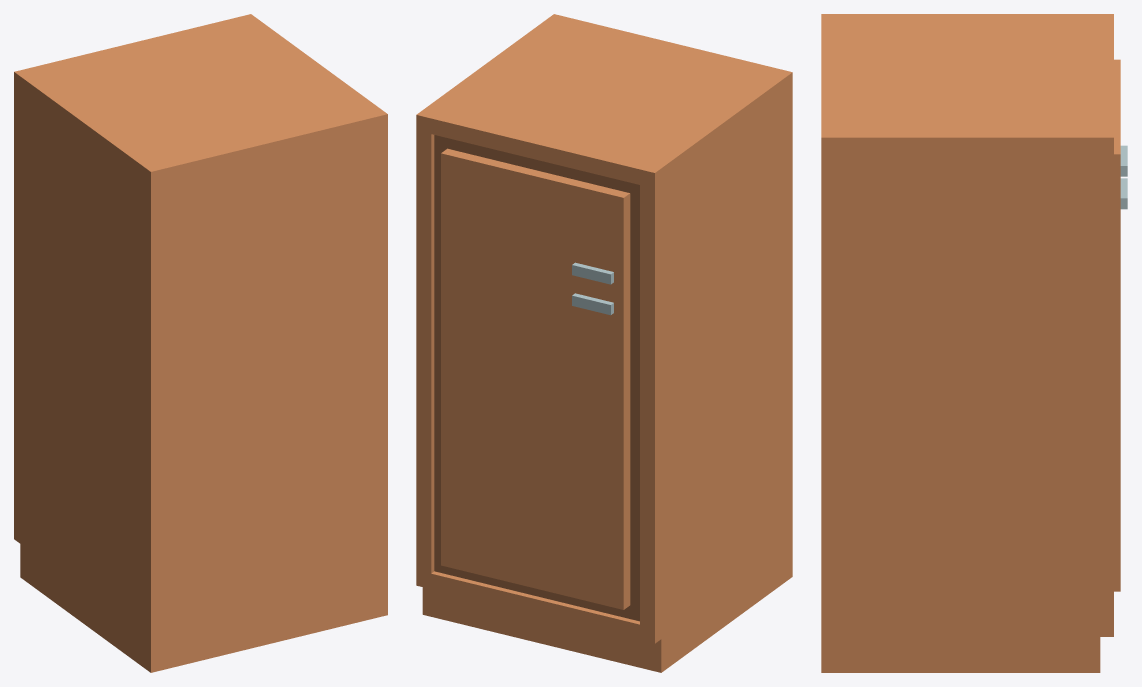
The model's file is kitchenFridgeBuiltIn.fbx.
3 renders of one model, left to right at view 1: azimuth 30°, elevation 25°; view 2: azimuth 150°, elevation 25°; view 3: azimuth 270°, elevation 25°, orthographic. The views are drawn at different scales.
Parts seen in each view (by area): view 1: kitchenFridgeBuiltIn; view 2: kitchenFridgeBuiltIn, doorFridge, doorFreezer; view 3: kitchenFridgeBuiltIn, doorFridge, doorFreezer.
Part boxes in pixels (bbox=[...]): kitchenFridgeBuiltIn: bbox=[14, 14, 387, 672]; kitchenFridgeBuiltIn: bbox=[416, 14, 792, 672]; doorFridge: bbox=[441, 250, 630, 609]; doorFreezer: bbox=[441, 148, 630, 294]; kitchenFridgeBuiltIn: bbox=[821, 14, 1113, 672]; doorFridge: bbox=[1114, 178, 1127, 591]; doorFreezer: bbox=[1114, 59, 1127, 256].
Bounding box in the file's own units: 4.3 × 8.69 × 4.5.
